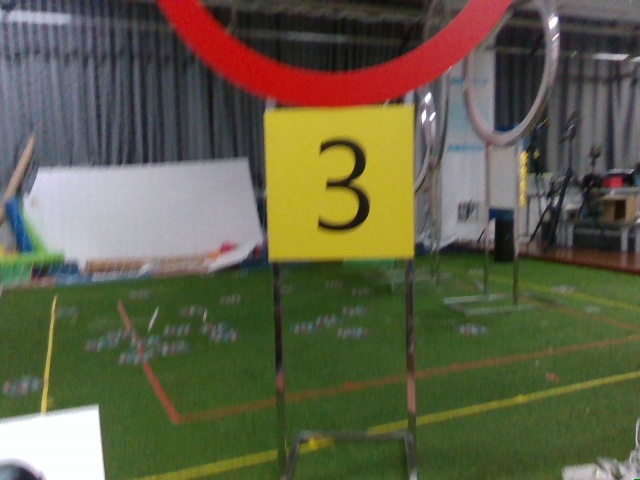target: (262, 106, 415, 258)
